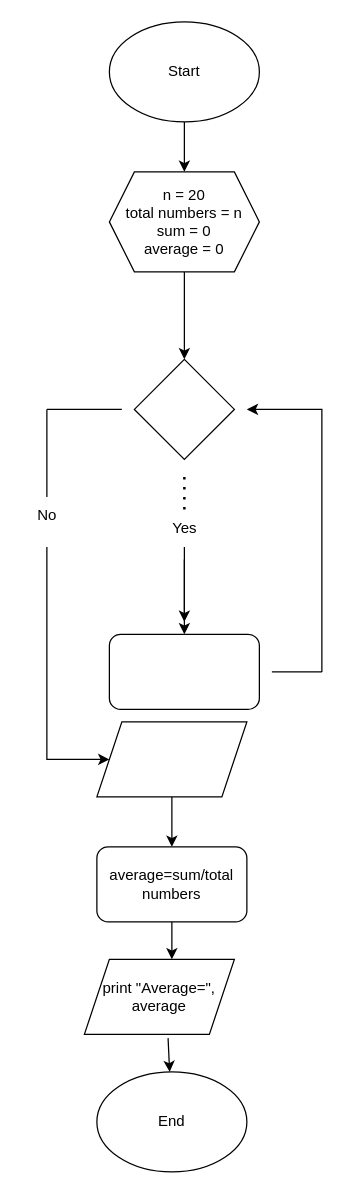
The diagram is 354 pixels wide and 1194 high, and some of its shapes have lost their labels. The shapes that lost their labels are listed below. From the top down, each one's box as (x1, y1, x2, y2) in pixels, then its label:
(133, 358, 234, 459): while n>=0
(108, 633, 259, 709): sum+=n n⋅=1
(96, 721, 247, 797): print "sum=", sum
